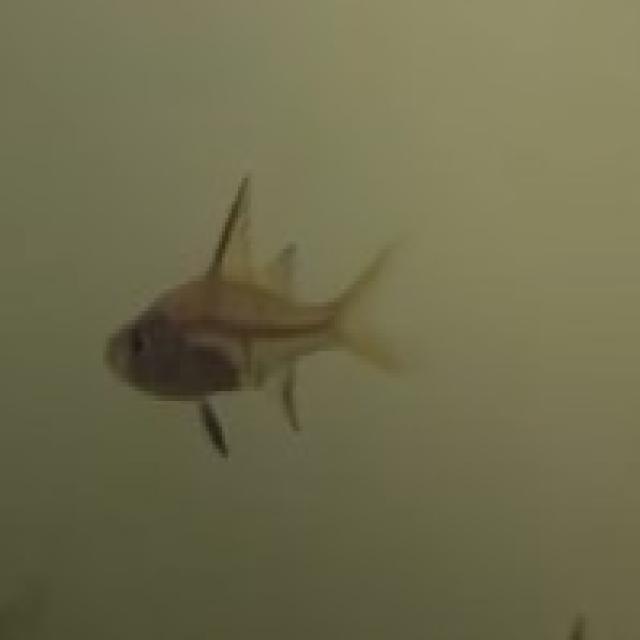Glass-Perchlet: (70, 123, 447, 499)
